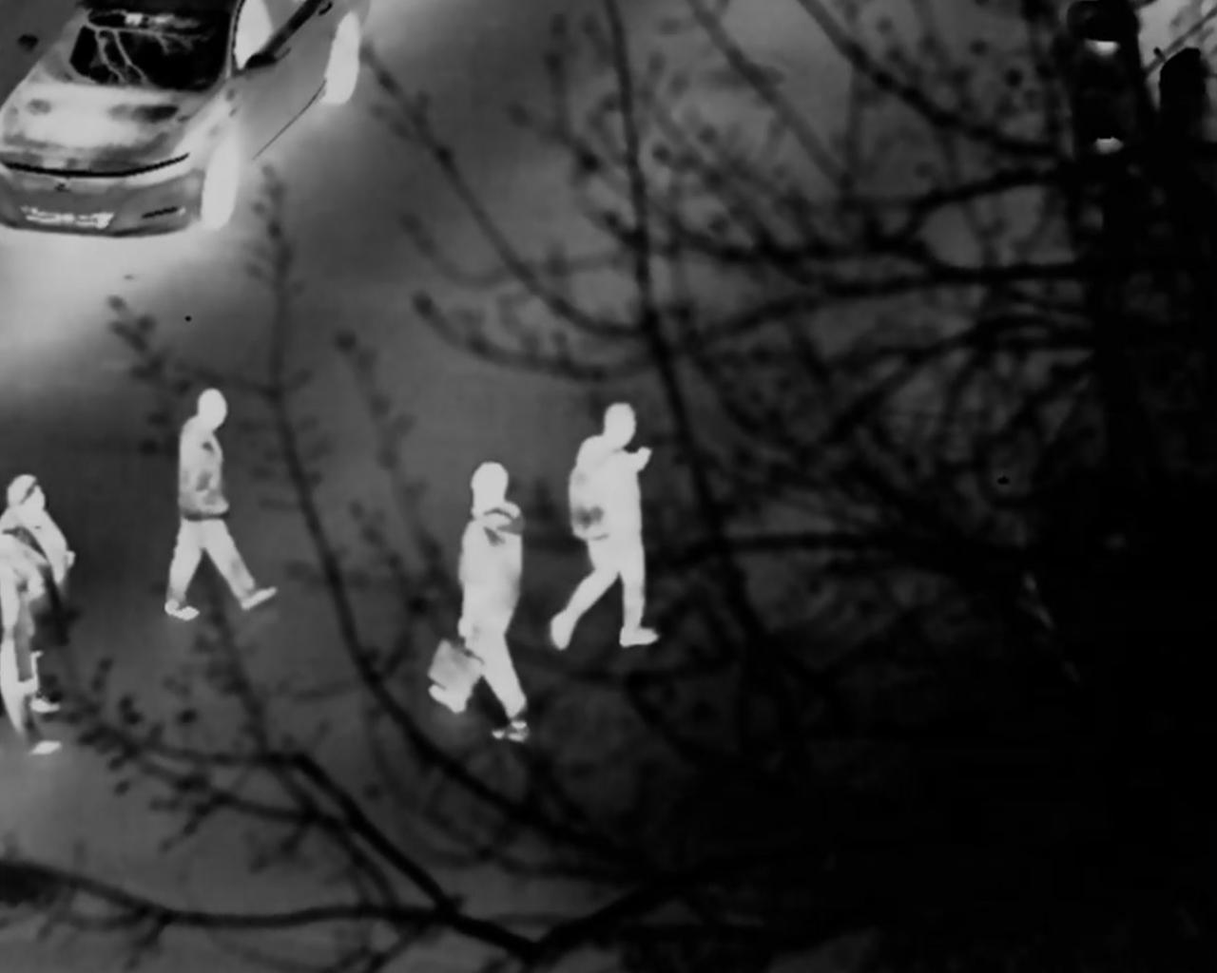person: (549, 400, 664, 682), (168, 384, 287, 636), (422, 457, 529, 735), (2, 472, 80, 735)
